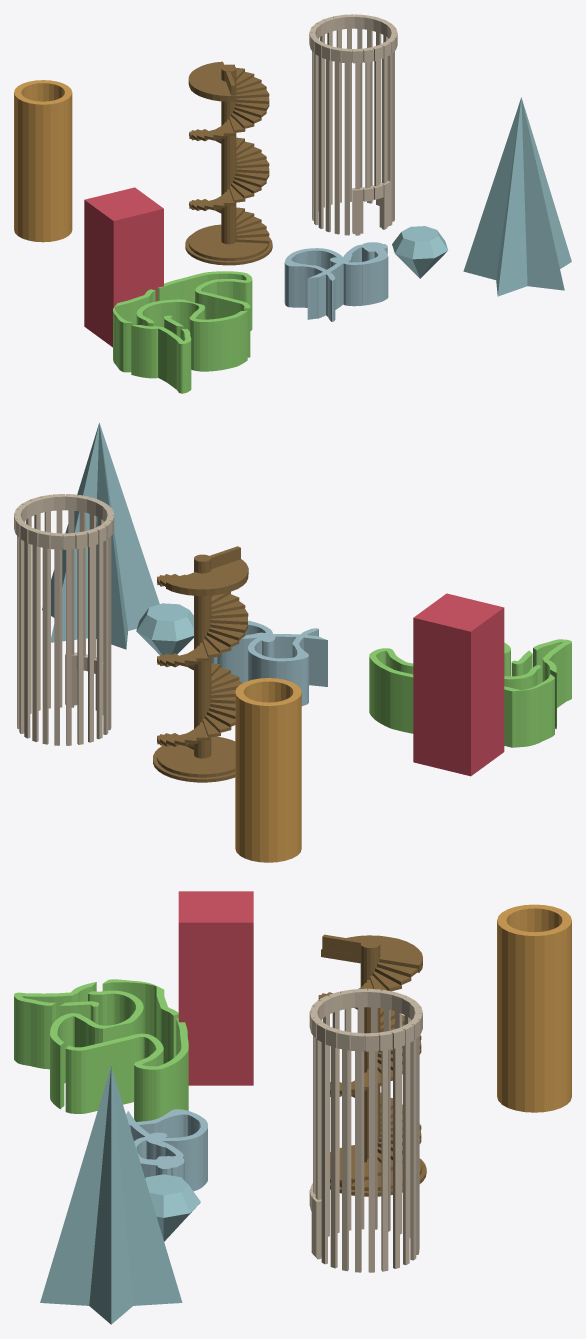
Rendered from Learning the Moves.glb.
The picture shows the model from 3 angles, top to bottom: view 1: azimuth 30°, elevation 25°; view 2: azimuth 150°, elevation 25°; view 3: azimuth 270°, elevation 25°; orthographic projection. The views are drawn at different scales.
Parts seen in each view (by area): view 1: Mesh_Mesh_head_geo.001_lambert2SG.001; view 2: Mesh_Mesh_head_geo.001_lambert2SG.001; view 3: Mesh_Mesh_head_geo.001_lambert2SG.001.
Boxes of the visible parts, x1=… form: Mesh_Mesh_head_geo.001_lambert2SG.001: x1=14, y1=14, x2=571, y2=393; Mesh_Mesh_head_geo.001_lambert2SG.001: x1=14, y1=423, x2=571, y2=862; Mesh_Mesh_head_geo.001_lambert2SG.001: x1=14, y1=891, x2=571, y2=1324.
Bounding box in the file's own units: 178 × 70 × 149.
